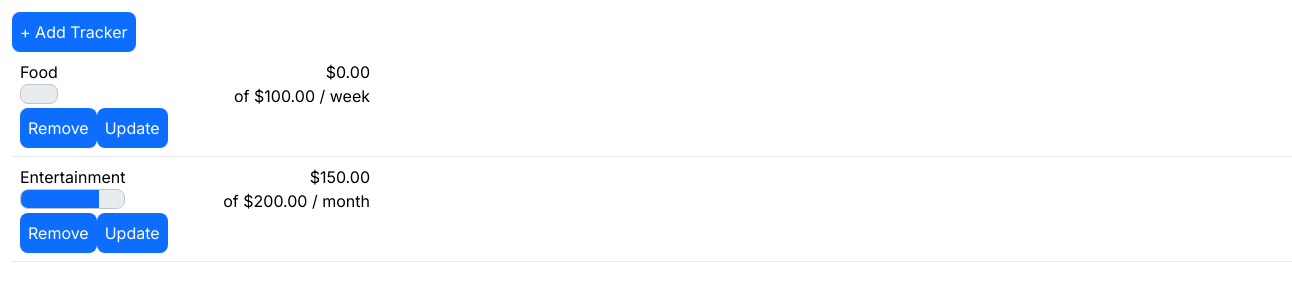
it: TrackersListController › UPDATE: can update tracker total
Expected: the heading "Food" is shown, [20,60,58,84]
Click the button "Update" below "Food". click: (132, 128)
box: [97,108,168,148]
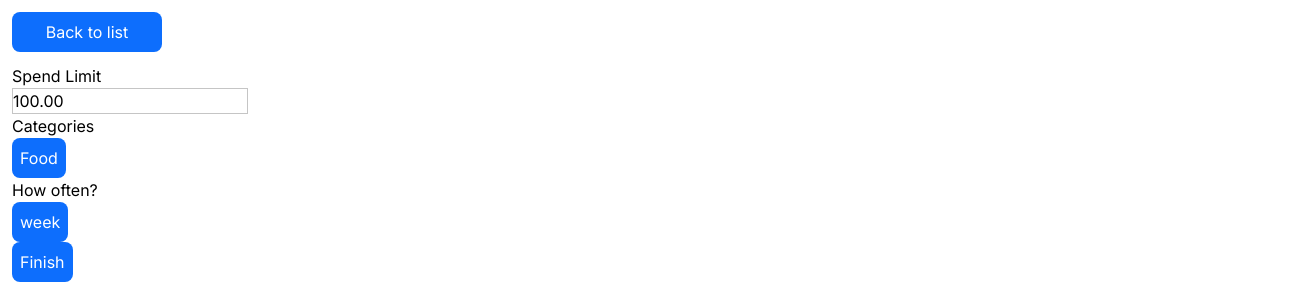
Replace the text in the field labelled "Spend Limit" with "2000". click: (130, 101)
box: [12,88,248,114]
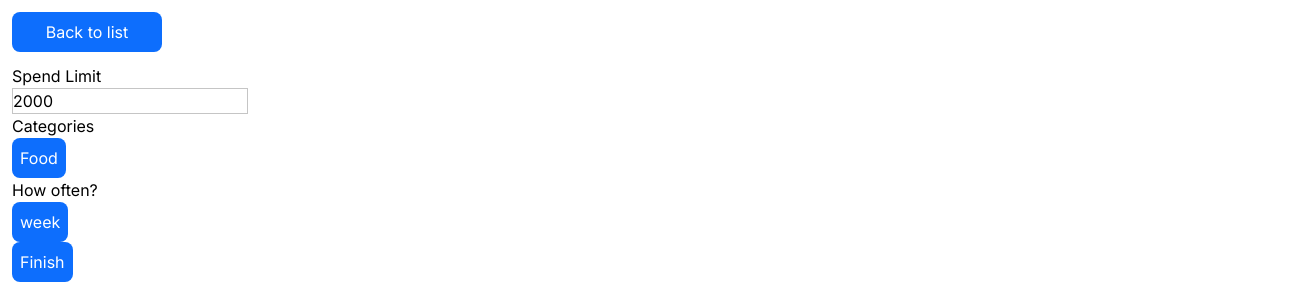
# Submit the form
Click the button "Finish". click: (42, 262)
box: [12,242,73,282]
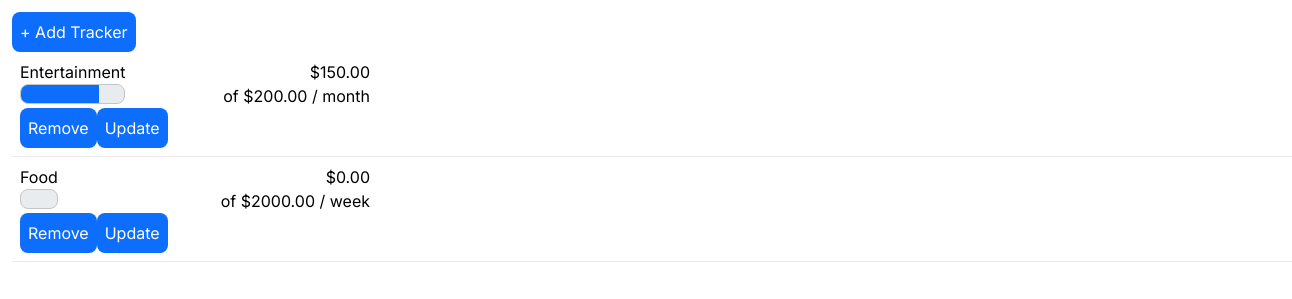
Expected: the text "of $2000.00 / week" is shown, [221,189,370,213]
